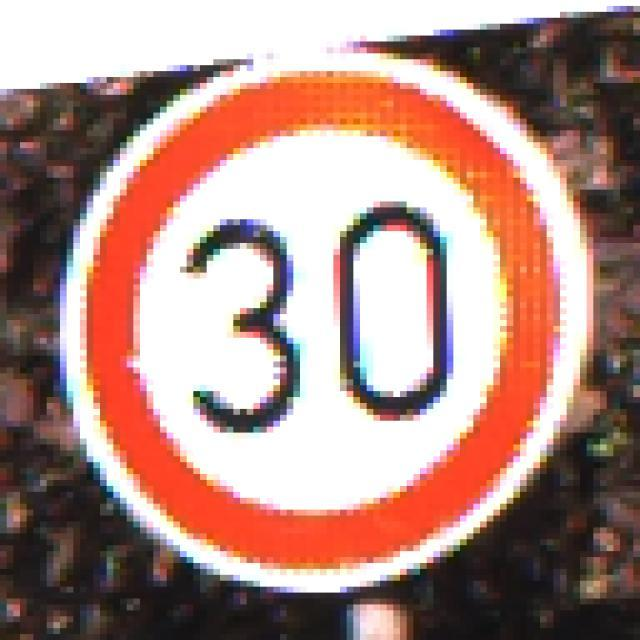Speed Limit -30-: (49, 50, 584, 584)
